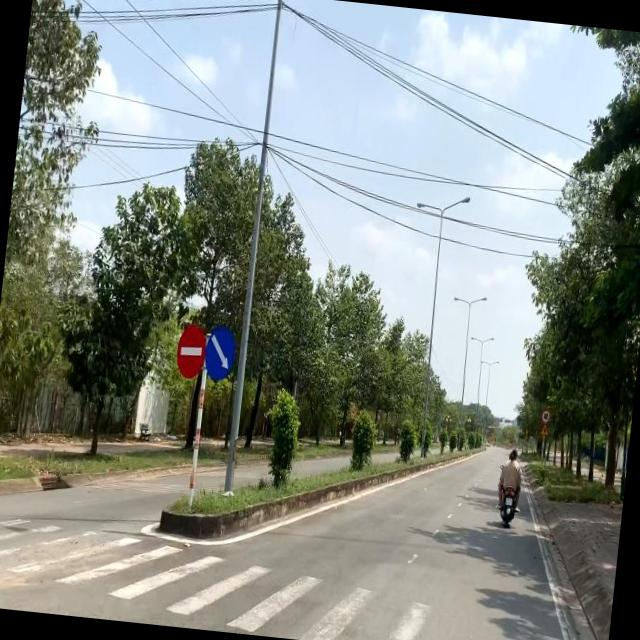P-102: (174, 321, 207, 379)
R-302a: (203, 324, 236, 382)
